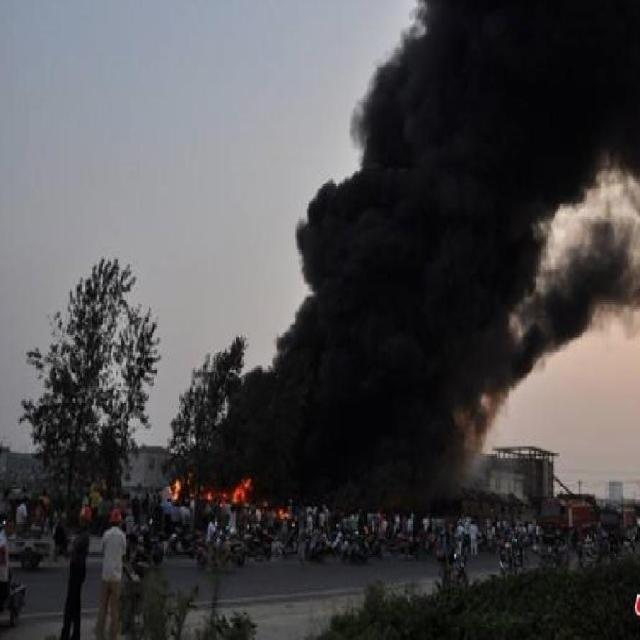Fire: (220, 473, 252, 503), (168, 476, 183, 501)
Smoke: (194, 1, 640, 516)
